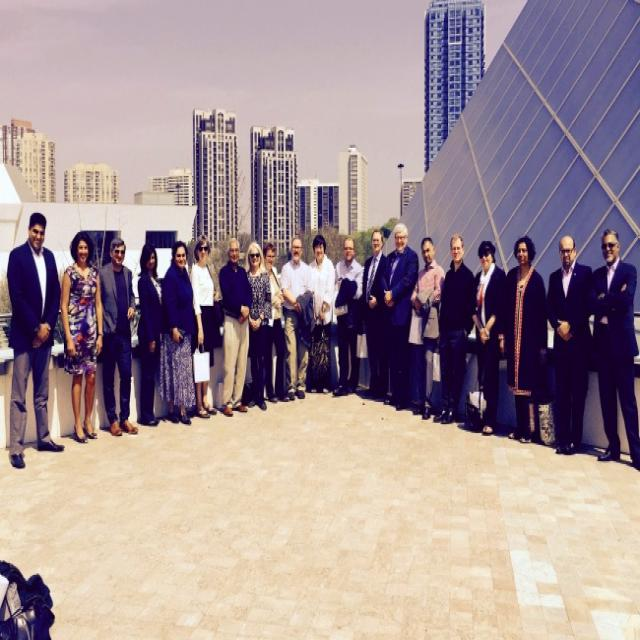body: (4, 210, 66, 468), (588, 225, 639, 474), (496, 230, 548, 445), (546, 231, 594, 455), (59, 229, 104, 445), (466, 238, 512, 435), (96, 235, 137, 439), (379, 220, 420, 414), (435, 232, 476, 424), (186, 230, 225, 420), (159, 238, 198, 427), (409, 235, 446, 420), (217, 233, 253, 417), (279, 232, 315, 402), (133, 238, 165, 427), (360, 228, 392, 398), (303, 232, 336, 396), (243, 240, 274, 412), (332, 235, 364, 398), (261, 241, 291, 403), (0, 553, 56, 638), (45, 366, 76, 454), (582, 370, 606, 460), (457, 352, 478, 430), (496, 359, 515, 442), (23, 370, 40, 450), (210, 346, 226, 417), (93, 362, 109, 432), (328, 326, 340, 394), (406, 344, 418, 410), (130, 354, 141, 422), (354, 356, 370, 396)
